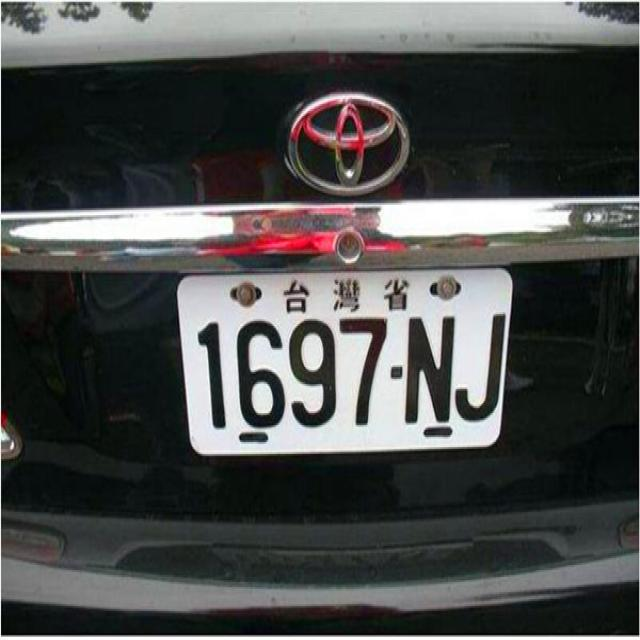license-plate: (173, 228, 526, 502)
